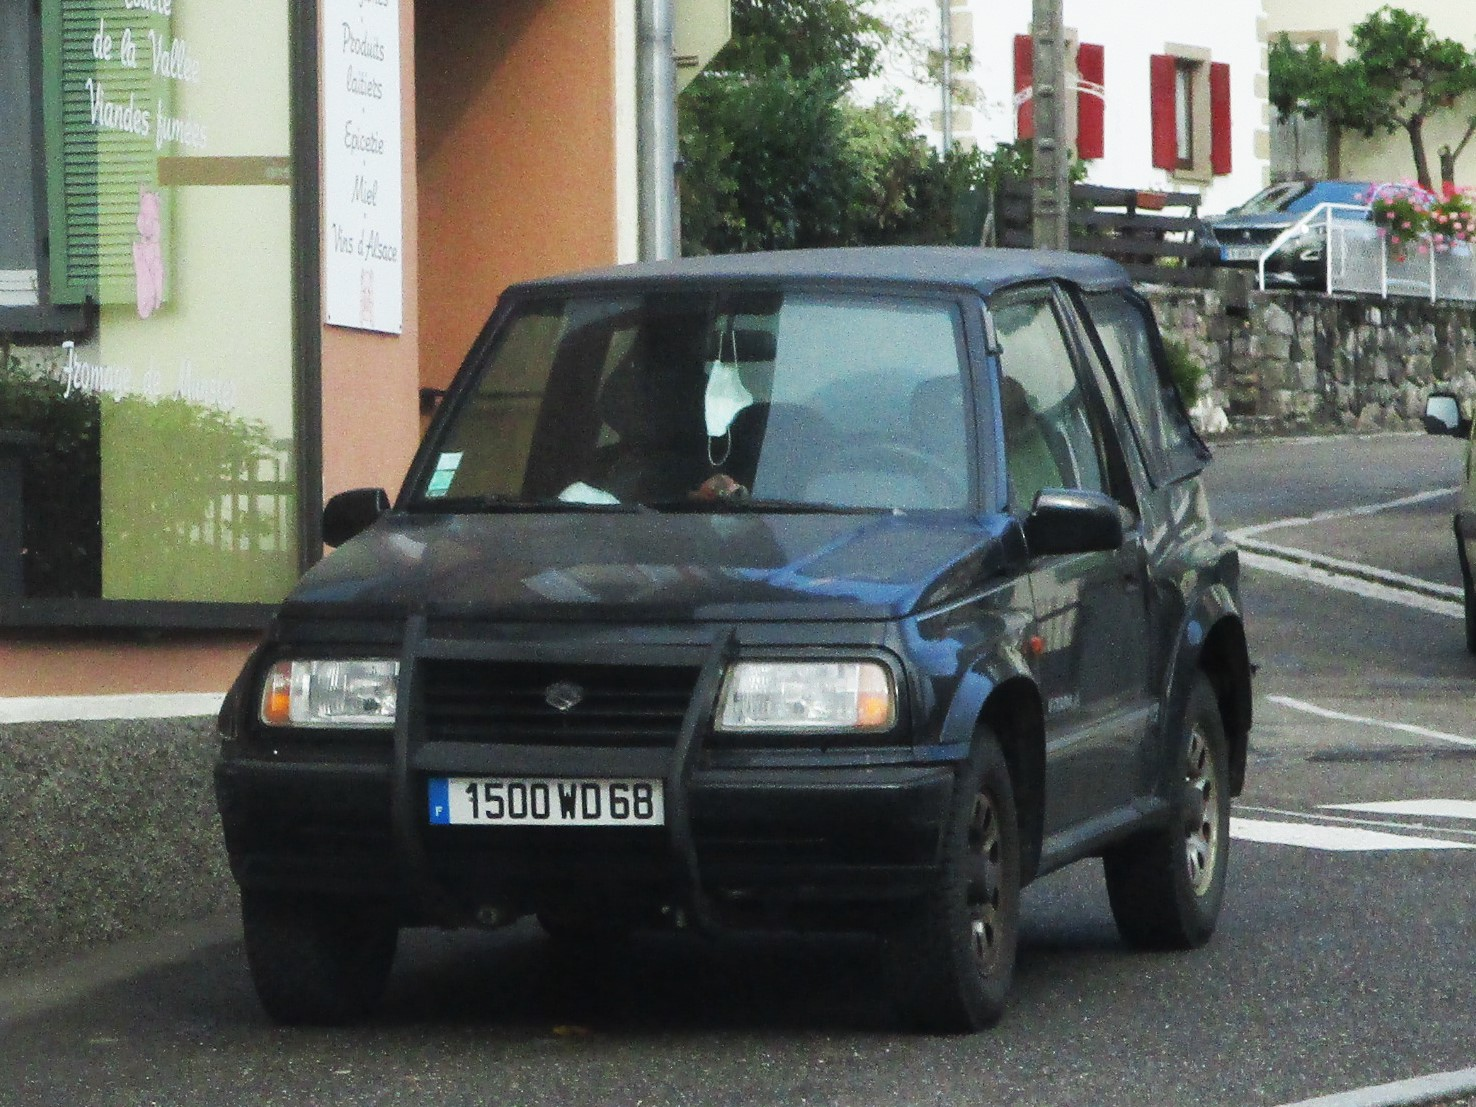licence plate: (424, 773, 668, 830)
